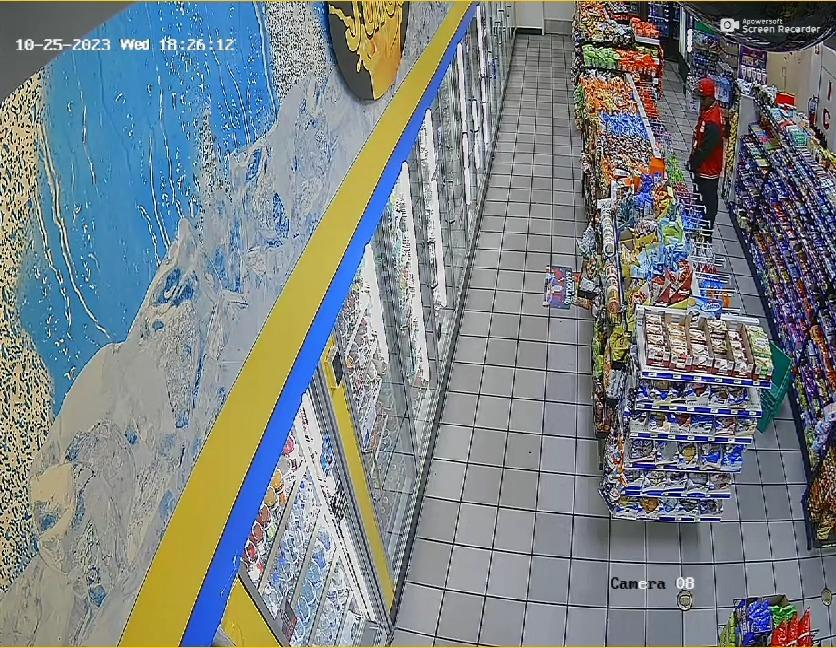shoplifting: (685, 75, 739, 242)
